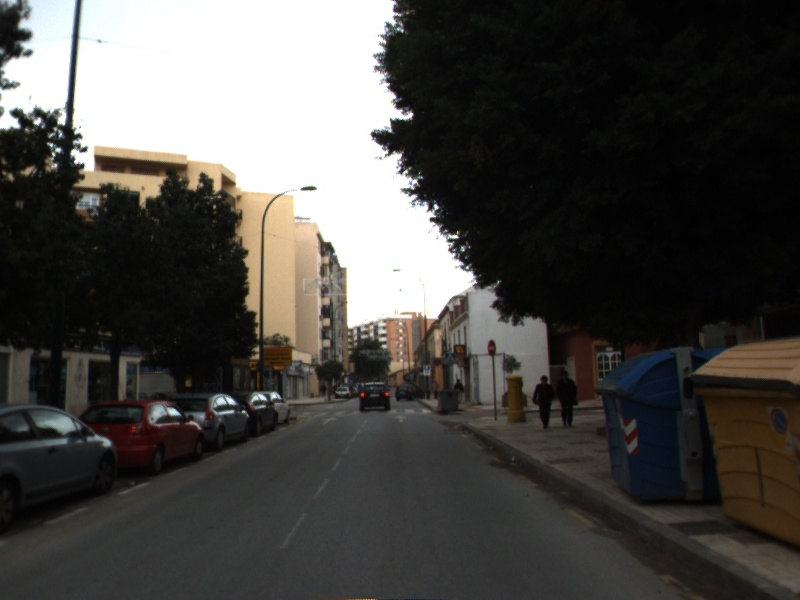STRAIGHT: (320, 415, 340, 426), (392, 413, 409, 424)
